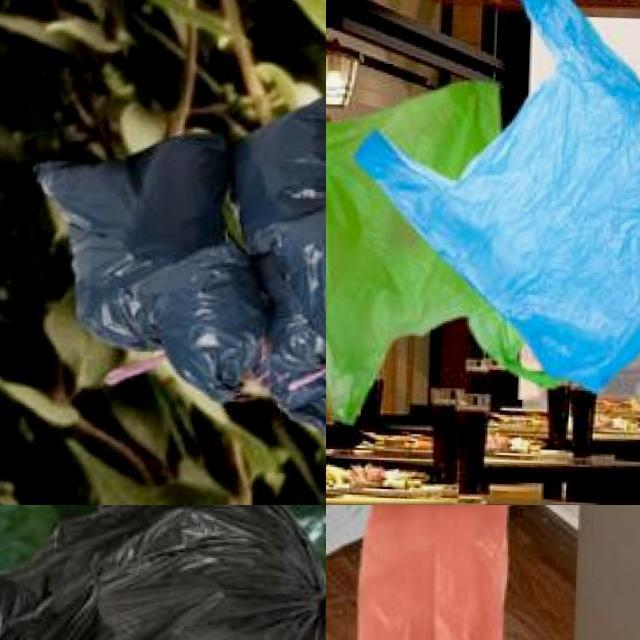waste: (356, 6, 640, 384), (326, 71, 541, 421), (0, 505, 326, 640), (16, 505, 326, 640), (29, 132, 220, 332), (136, 247, 267, 398), (366, 505, 504, 640), (326, 505, 495, 596), (247, 182, 326, 372)
